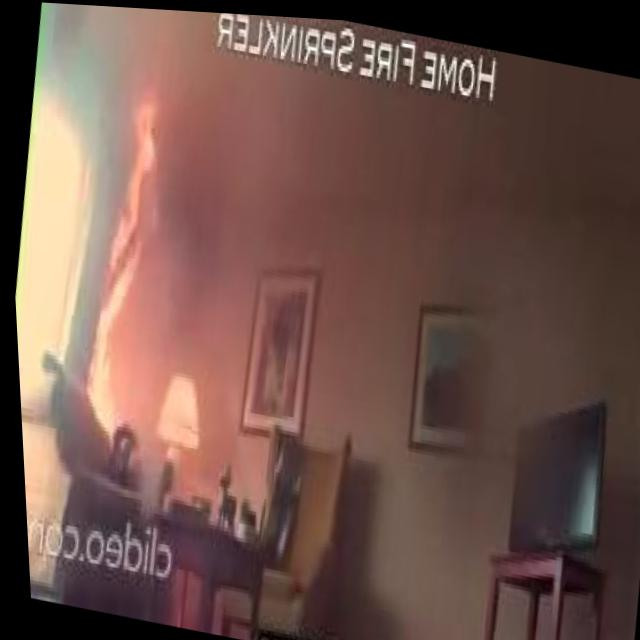fire: (63, 84, 187, 440)
